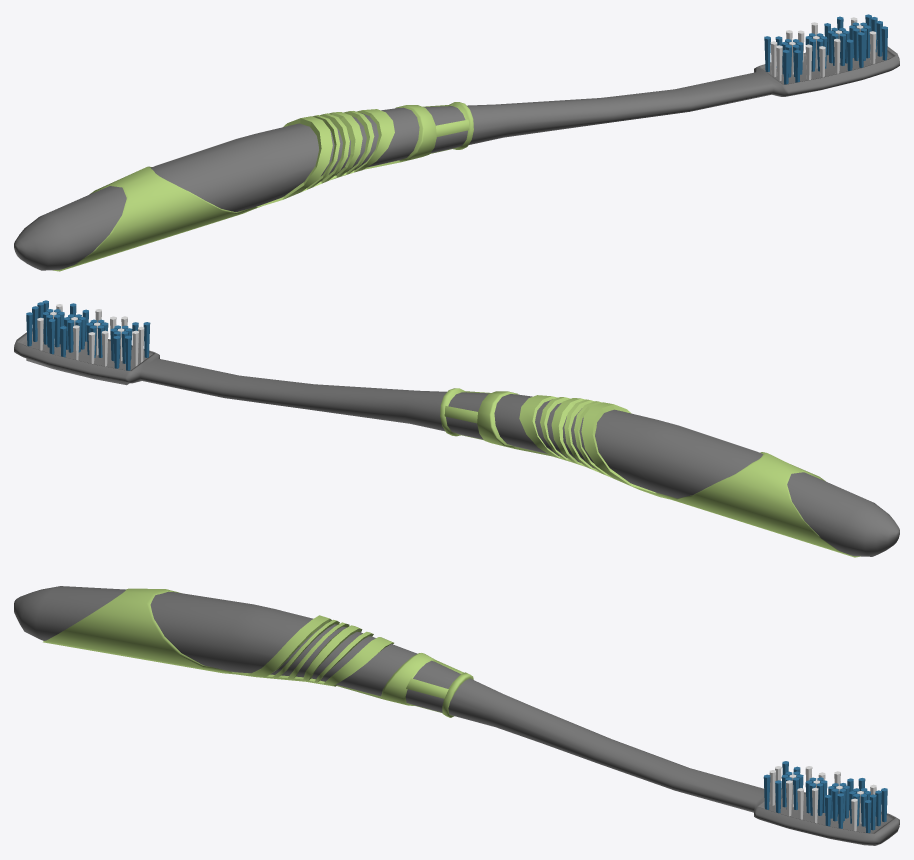
File: tooth_brush.fbx
3 views of the same model, one above another, from view 1: azimuth 30°, elevation 25°; view 2: azimuth 150°, elevation 25°; view 3: azimuth 330°, elevation 25° (orthographic).
Parts seen in each view (by area): view 1: pCylinder206; view 2: pCylinder206; view 3: pCylinder206.
Part boxes in pixels (x1,y1,x2,y2): pCylinder206: (14, 14, 899, 271); pCylinder206: (14, 300, 899, 557); pCylinder206: (14, 586, 899, 845).
Bounding box in the file's own units: 0.4618 × 0.0419 × 0.0401.
